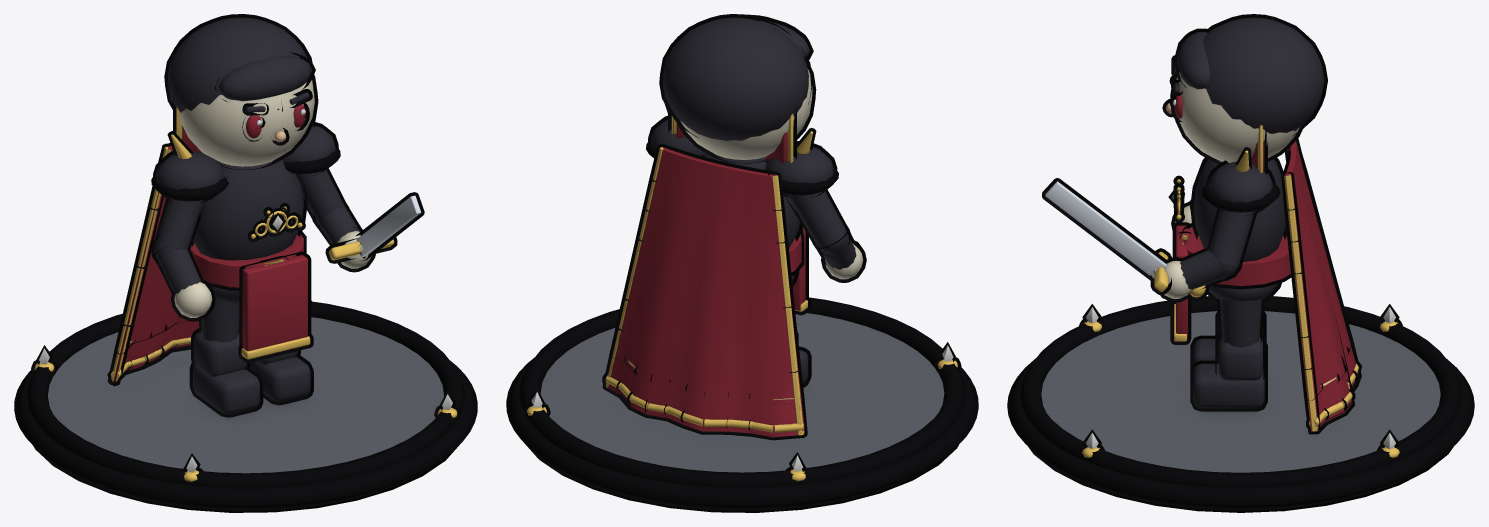
The model's file is blood_knight_s4.fbx.
3 renders of one model, left to right at view 1: azimuth 30°, elevation 25°; view 2: azimuth 150°, elevation 25°; view 3: azimuth 270°, elevation 25°, orthographic.
Visible parts, largest first — view 1: blood_knight_s4; view 2: blood_knight_s4; view 3: blood_knight_s4.
Boxes of the visible parts, <box> form: blood_knight_s4: <box>14,14,477,512</box>; blood_knight_s4: <box>506,14,978,512</box>; blood_knight_s4: <box>1007,14,1474,512</box>.
Bounding box in the file's own units: 1.58 × 1.48 × 1.58.
Materials: 2 (1 with a texture image).
